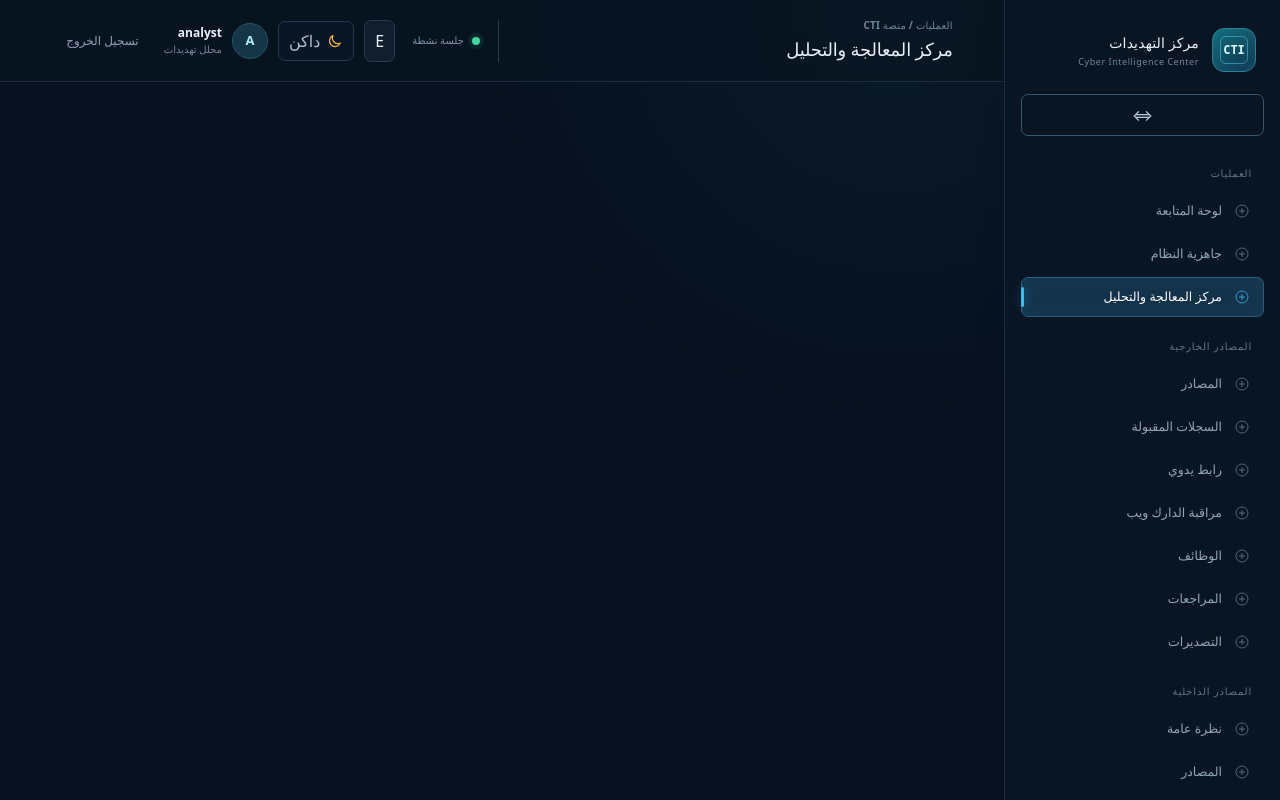
Scenario: local i18n and orchestration navigation › exposes the processing center and collapsible accessible navigation
Expected: the text "analyst" is shown, [178,24,222,41]
Click the button named "طي القائمة".
click(1142, 115)  # box [1021,94,1264,136]
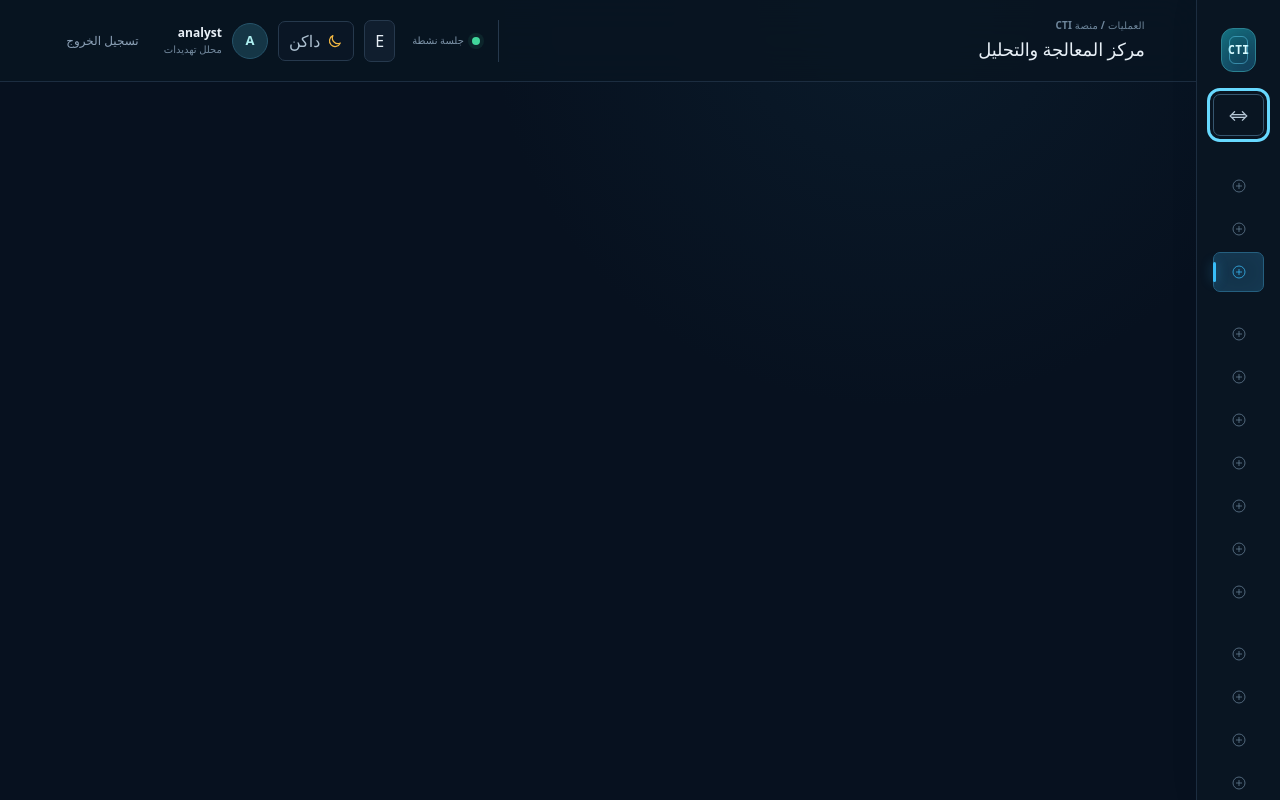
Now the button named "طي القائمة" is collapsed, box [1213,94,1264,136]
